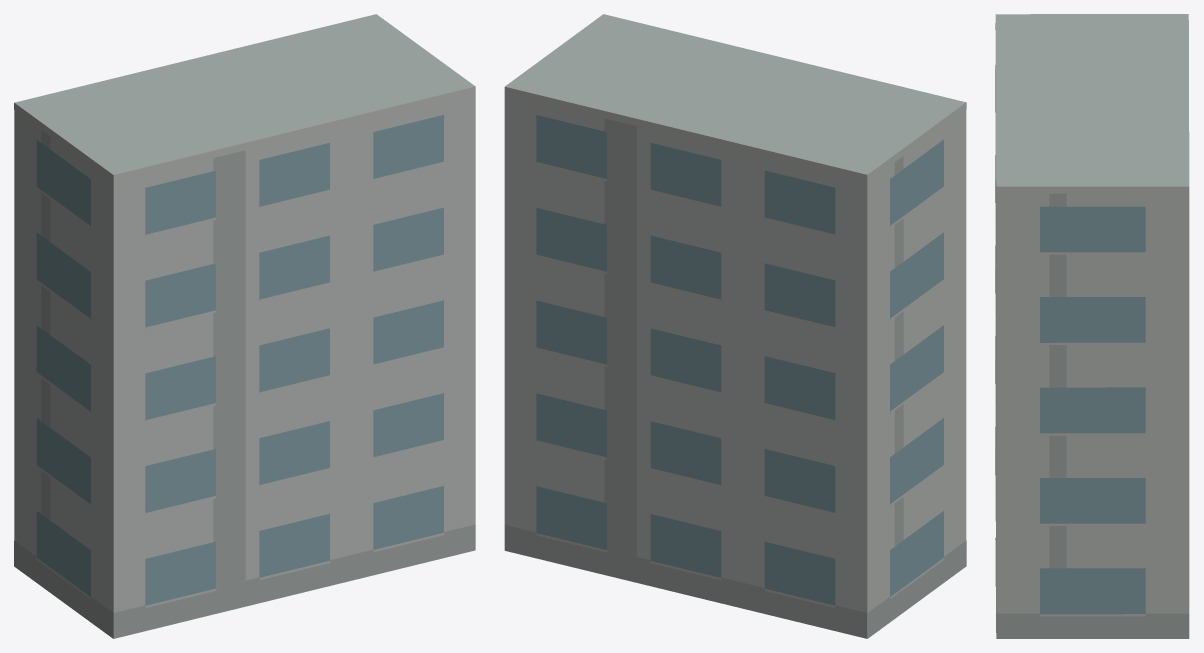
The model's file is survey-upis-32911889.glb.
The picture shows the model from 3 angles, left to right: view 1: azimuth 30°, elevation 25°; view 2: azimuth 150°, elevation 25°; view 3: azimuth 270°, elevation 25°; orthographic projection. The views are drawn at different scales.
Parts seen in each view (by area): view 1: survey-upis-32911889.tmp; view 2: survey-upis-32911889.tmp; view 3: survey-upis-32911889.tmp.
Part boxes in pixels (<box>): survey-upis-32911889.tmp: <box>14,14,475,638</box>; survey-upis-32911889.tmp: <box>504,14,966,638</box>; survey-upis-32911889.tmp: <box>995,14,1189,638</box>.
Bounding box in the file's own units: 12.54 × 15.3 × 5.96.
